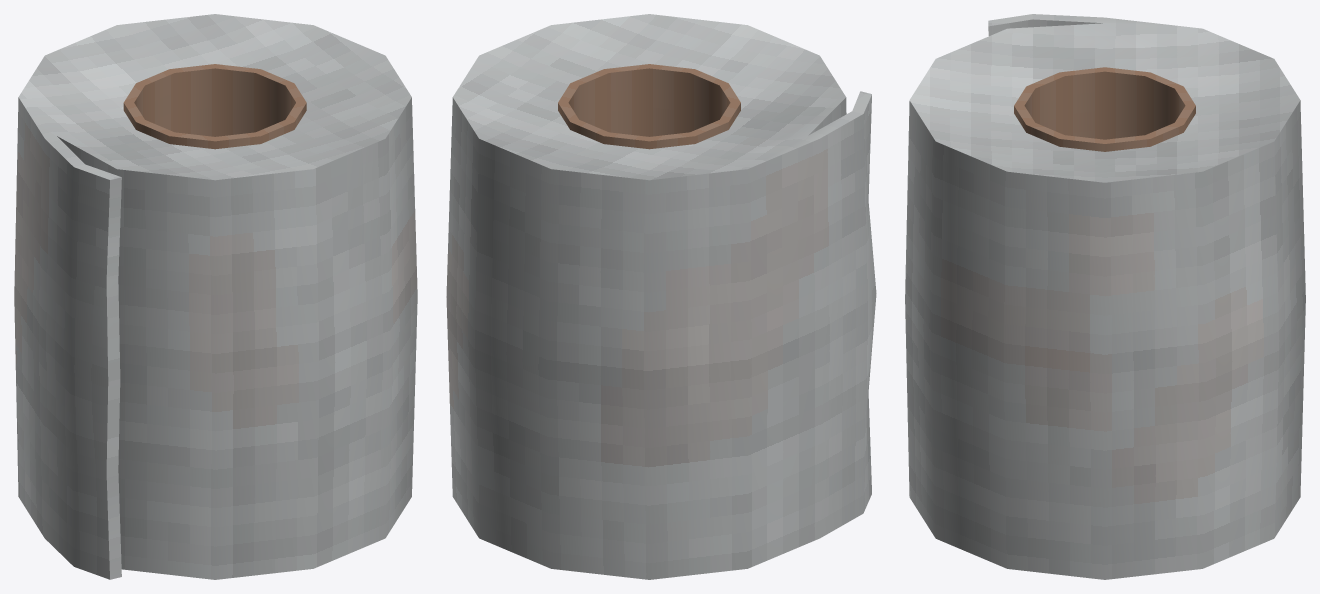
The model's file is bandage_roll.obj.
3 views of the same model, side by side, from view 1: azimuth 30°, elevation 25°; view 2: azimuth 150°, elevation 25°; view 3: azimuth 270°, elevation 25° (orthographic).
Visible parts, largest first — view 1: bandage_roll; view 2: bandage_roll; view 3: bandage_roll.
Boxes of the visible parts, x1,y1,x2,y2 form: bandage_roll: [14, 14, 417, 579]; bandage_roll: [446, 14, 876, 579]; bandage_roll: [905, 14, 1305, 579].
Bounding box in the file's own units: 0.1786 × 0.1913 × 0.175.
